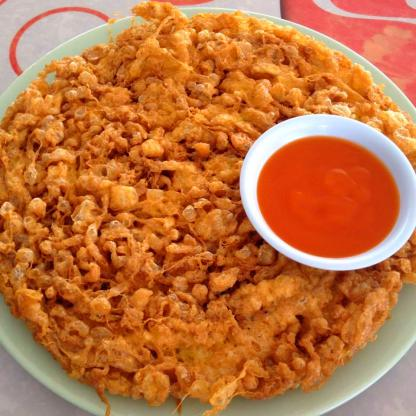Omelette: (0, 16, 408, 415)
